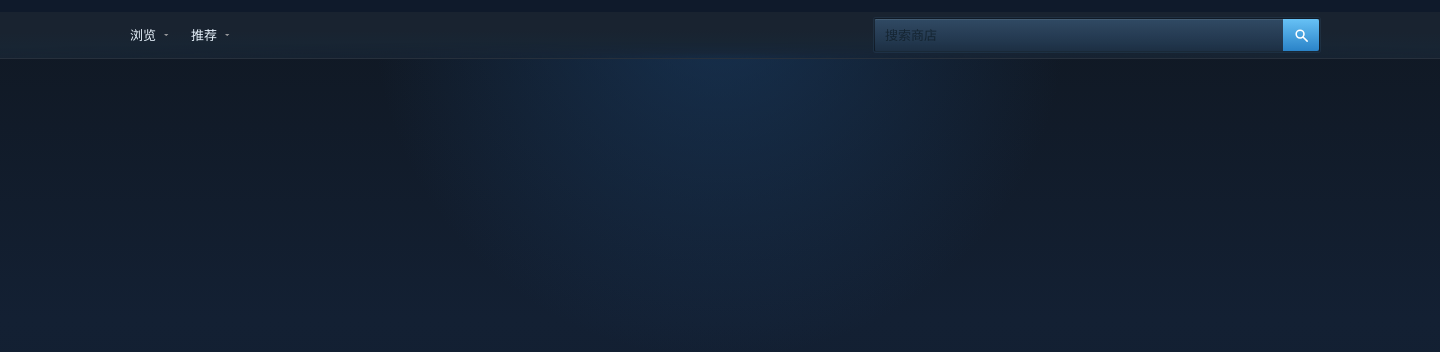
Test: StoreNav › opens a menu on click, switches to another menu, and closes on Escape
The image size is (1440, 352).
Click the button "浏览". click: {"x": 150, "y": 35}
box: [120,12,181,58]
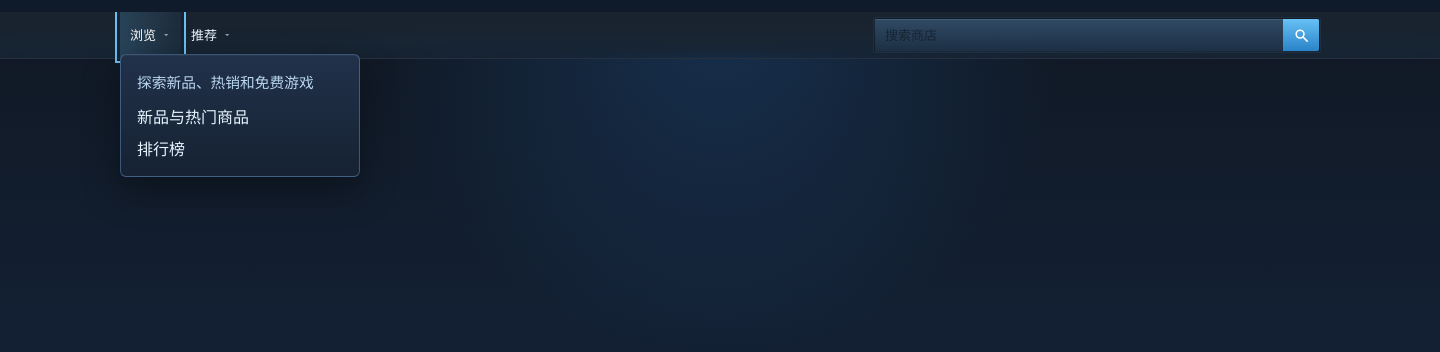
Now the menu named "浏览" is shown, box [120,54,360,177]
Now the button "浏览" is expanded
Click the button "浏览". click: {"x": 150, "y": 35}
box: [120,12,181,58]
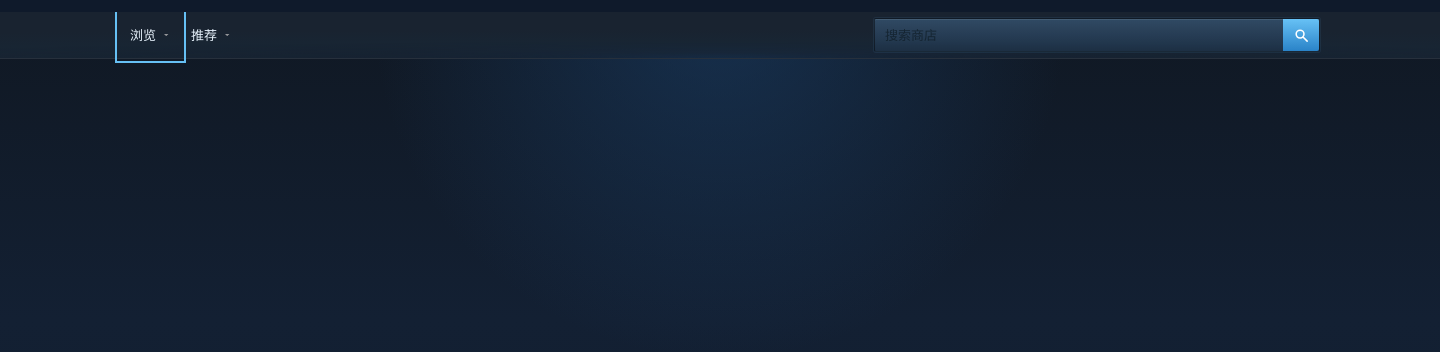
Now the button "浏览" is collapsed
Click the button "浏览". click: {"x": 150, "y": 35}
box: [120,12,181,58]
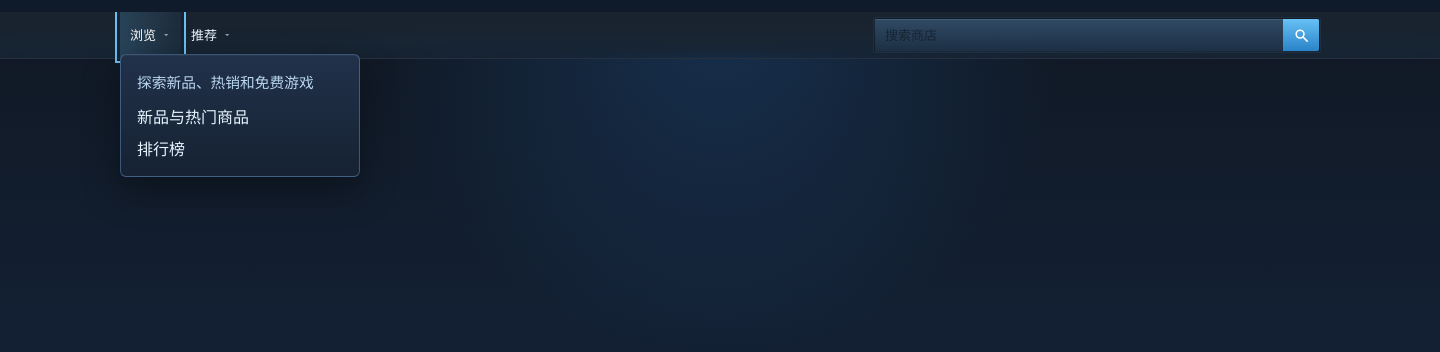
Now the menu named "浏览" is shown, box [120,54,360,177]
Click the button "推荐". click: {"x": 212, "y": 35}
box: [181,12,242,58]
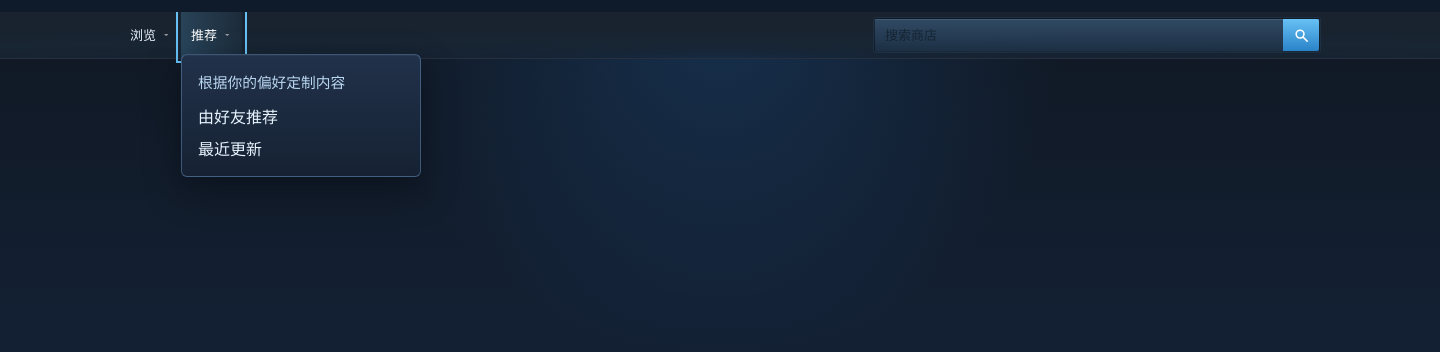
Now the menu "推荐" is shown, box [181,54,421,177]
Now the button "推荐" is expanded, box [181,12,242,58]
Press Escape
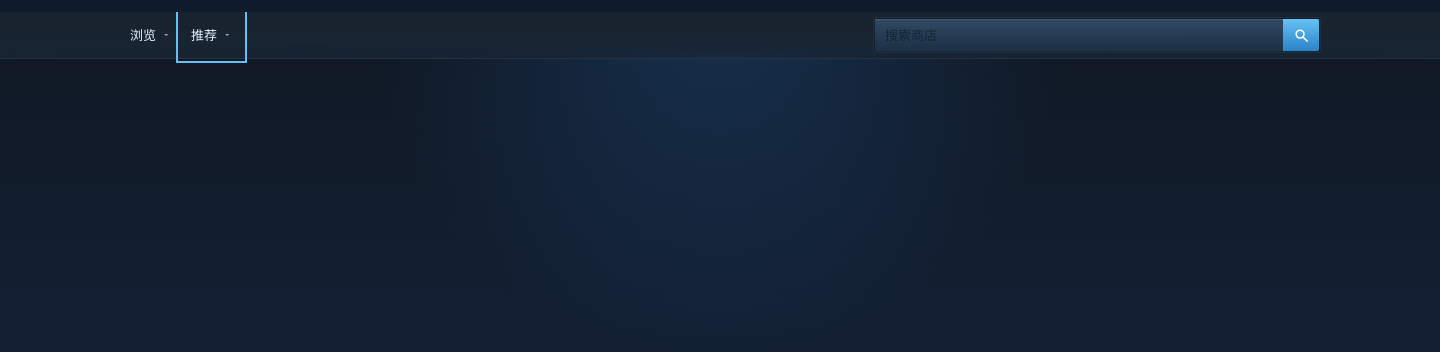
Now the button "推荐" is collapsed, box [181,12,242,58]
